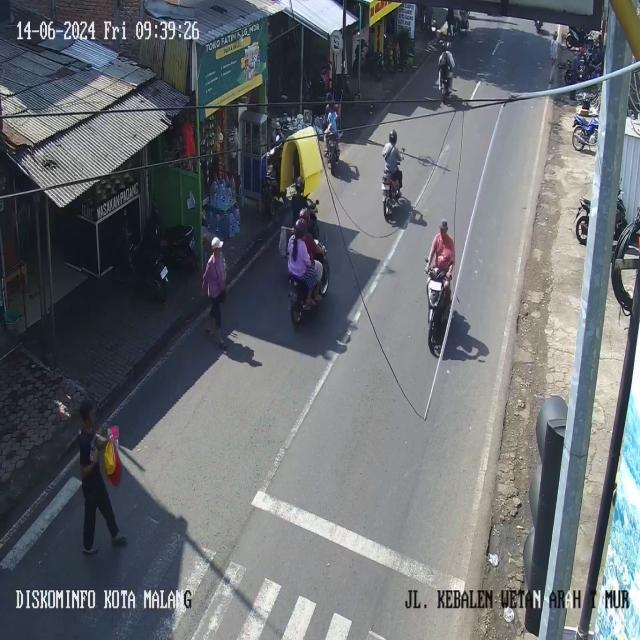Helmet: (294, 218, 306, 237), (294, 176, 304, 193), (299, 208, 309, 224), (389, 129, 397, 144), (440, 219, 447, 231), (273, 120, 281, 130), (445, 42, 451, 49)
Number Plate: (160, 266, 167, 278)
